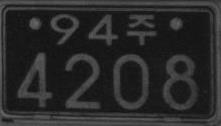0: (112, 53, 148, 111)
2: (65, 51, 100, 109)
4: (16, 52, 52, 107), (87, 14, 118, 45)
8: (162, 52, 199, 111)
9: (50, 12, 79, 45)
주: (127, 13, 156, 46)
